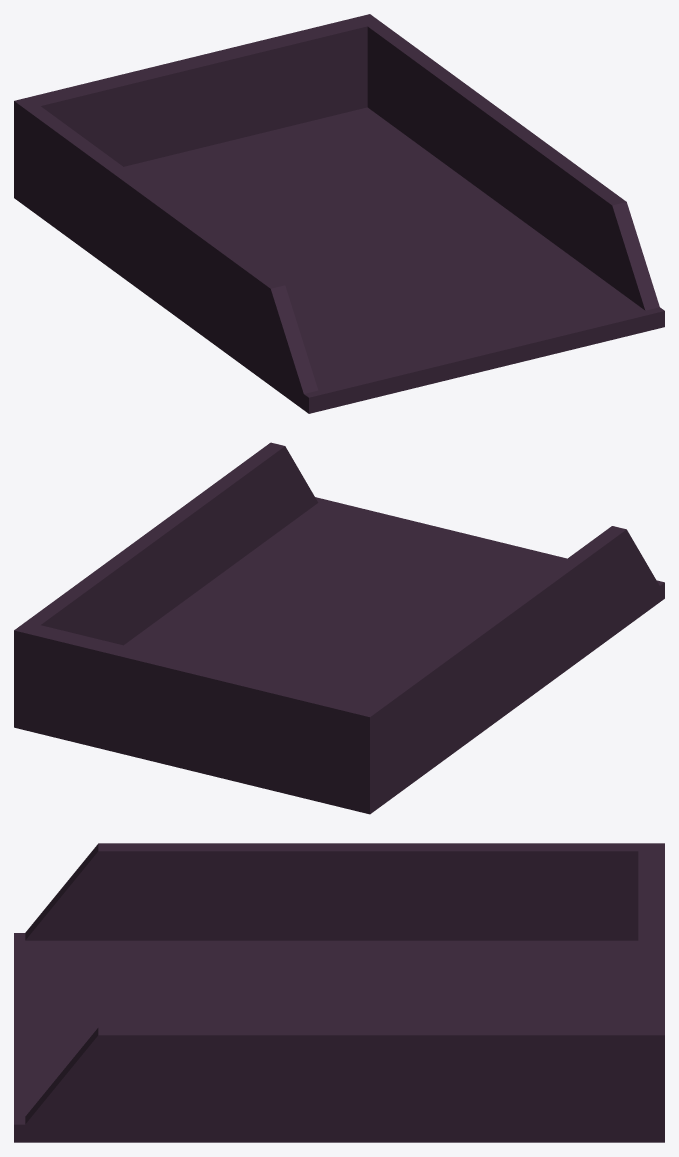
The model's file is PaperTray01.fbx.
The picture shows the model from 3 angles, top to bottom: view 1: azimuth 30°, elevation 25°; view 2: azimuth 150°, elevation 25°; view 3: azimuth 270°, elevation 25°; orthographic projection. The views are drawn at different scales.
Visible parts, largest first — view 1: Paper Tray 001; view 2: Paper Tray 001; view 3: Paper Tray 001.
Part boxes in pixels (x1,y1,x2,y2): Paper Tray 001: [14, 14, 664, 413]; Paper Tray 001: [14, 442, 664, 814]; Paper Tray 001: [14, 843, 664, 1142].
Size of the model in its own units: 23 by 6 by 33.
